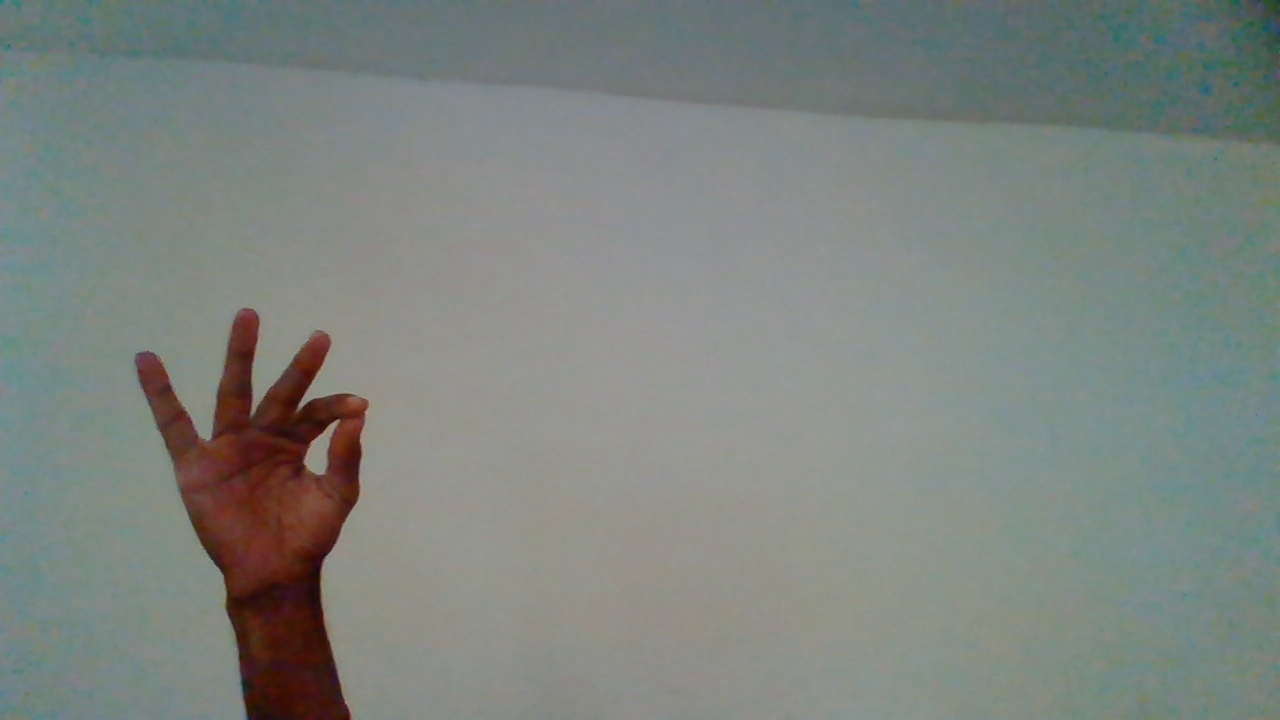le: (131, 302, 374, 697)
